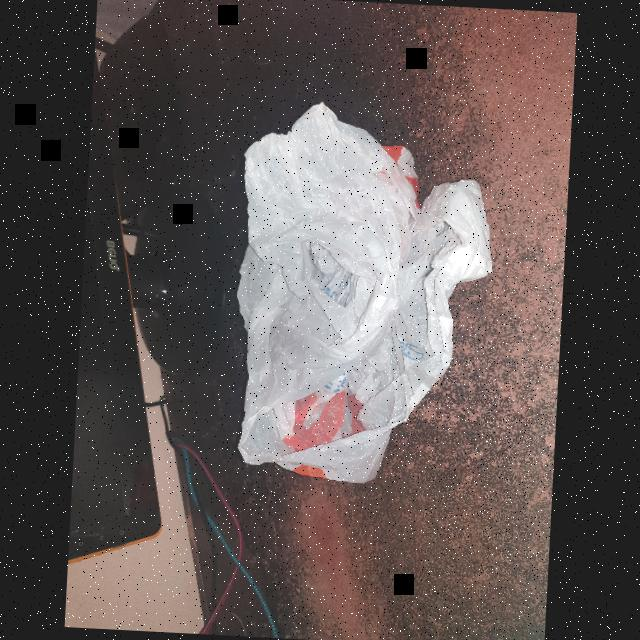plastic_bag: (224, 89, 507, 496)
